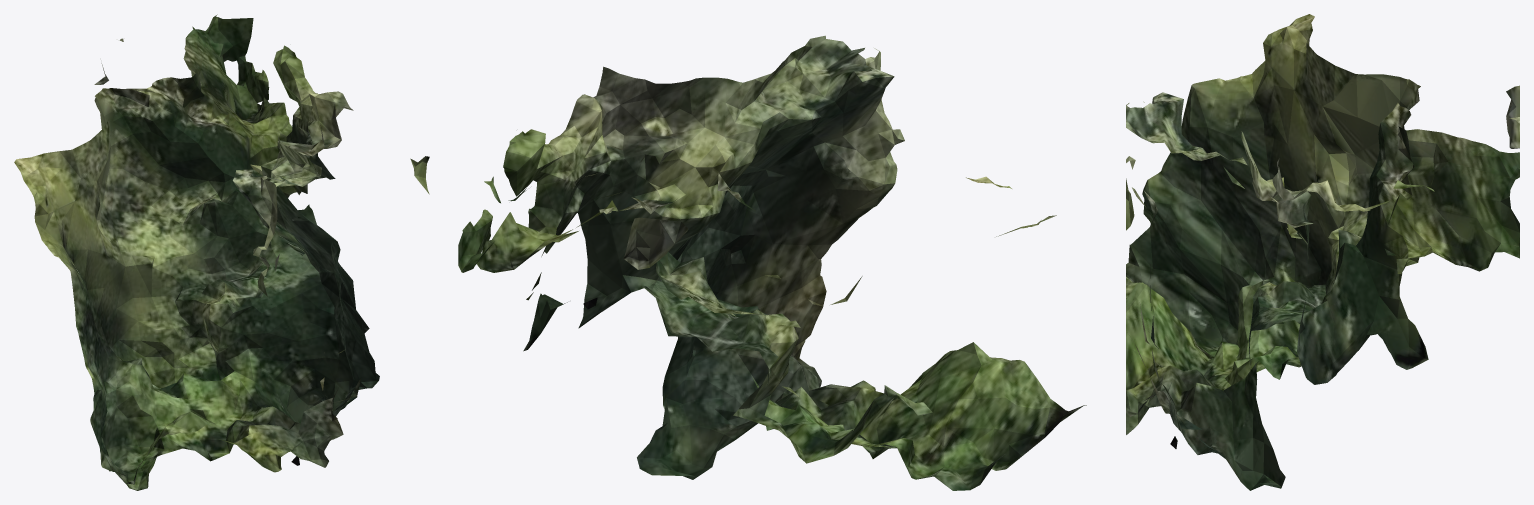
3 renders of one model, left to right at view 1: azimuth 30°, elevation 25°; view 2: azimuth 150°, elevation 25°; view 3: azimuth 270°, elevation 25°, orthographic. The views are drawn at different scales.
Size of the model in its own units: 11.8 by 11.17 by 11.8.
5 materials, 5 textured.
